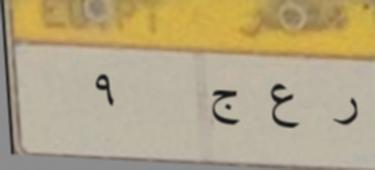9: (94, 70, 118, 112)
ain: (267, 82, 300, 138)
jeem: (208, 83, 243, 133)
raa: (330, 93, 363, 130)
